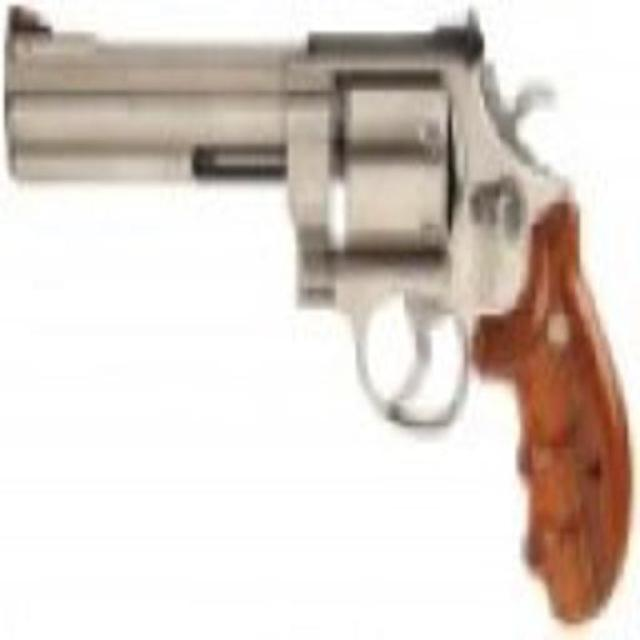pistol: (4, 5, 624, 617)
